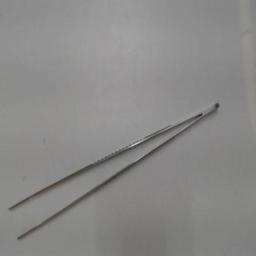DeBakey Dissector: (8, 94, 224, 252)
